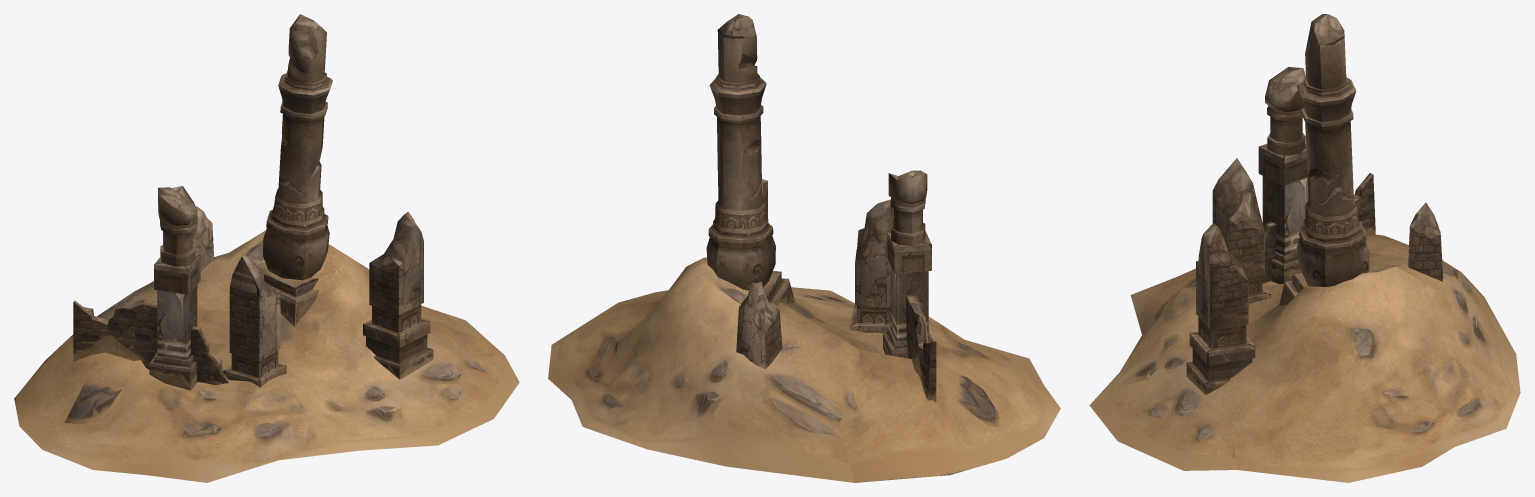
The model's file is sm_zhuzi_1.FBX.
3 renders of one model, left to right at view 1: azimuth 30°, elevation 25°; view 2: azimuth 150°, elevation 25°; view 3: azimuth 270°, elevation 25°, orthographic. The views are drawn at different scales.
Visible parts, largest first — view 1: sm_zhuzi_1; view 2: sm_zhuzi_1; view 3: sm_zhuzi_1.
Part boxes in pixels (x1,y1,x2,y2): sm_zhuzi_1: [14, 14, 519, 482]; sm_zhuzi_1: [548, 14, 1060, 482]; sm_zhuzi_1: [1089, 14, 1520, 482].
Bounding box in the file's own units: 105 × 79.07 × 81.93.
